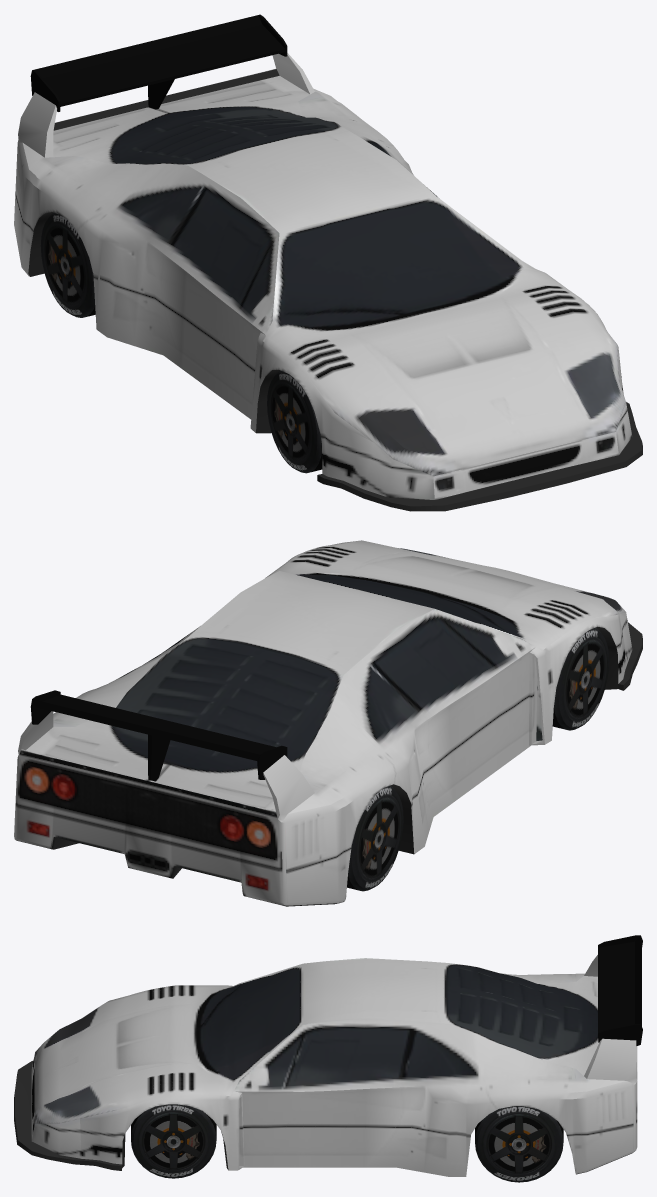
The picture shows the model from 3 angles, top to bottom: view 1: azimuth 30°, elevation 25°; view 2: azimuth 150°, elevation 25°; view 3: azimuth 270°, elevation 25°; orthographic projection. The views are drawn at different scales.
Parts seen in each view (by area): view 1: Body, Body_RearWing, Wheel_RR, Wheel_FR; view 2: Body, Body_RearWing, Wheel_RR, Wheel_FR, Light_Tail; view 3: Body, Wheel_RL, Wheel_FL, Body_RearWing.
Part boxes in pixels (x1,y1,x2,y2): Body: (14, 53, 642, 511); Body_RearWing: (30, 14, 287, 111); Wheel_RR: (40, 212, 95, 317); Wheel_FR: (267, 370, 322, 473); Body: (14, 540, 642, 906); Body_RearWing: (30, 690, 287, 781); Wheel_RR: (347, 785, 403, 891); Wheel_FR: (552, 627, 609, 730); Light_Tail: (25, 769, 270, 846); Body: (14, 955, 637, 1176); Wheel_RL: (475, 1106, 563, 1182); Wheel_FL: (131, 1104, 216, 1178); Body_RearWing: (598, 935, 642, 1045).
Bounding box in the file's own units: 2.09 × 1.13 × 4.48.
4 materials, 1 textured.
